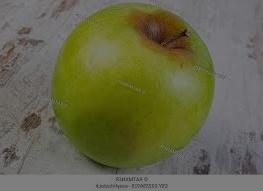rotten apple: (45, 1, 217, 171)
